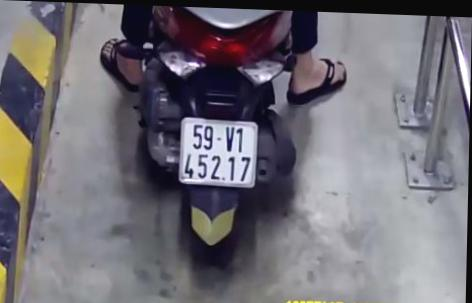License_Plate: (162, 107, 265, 194)
